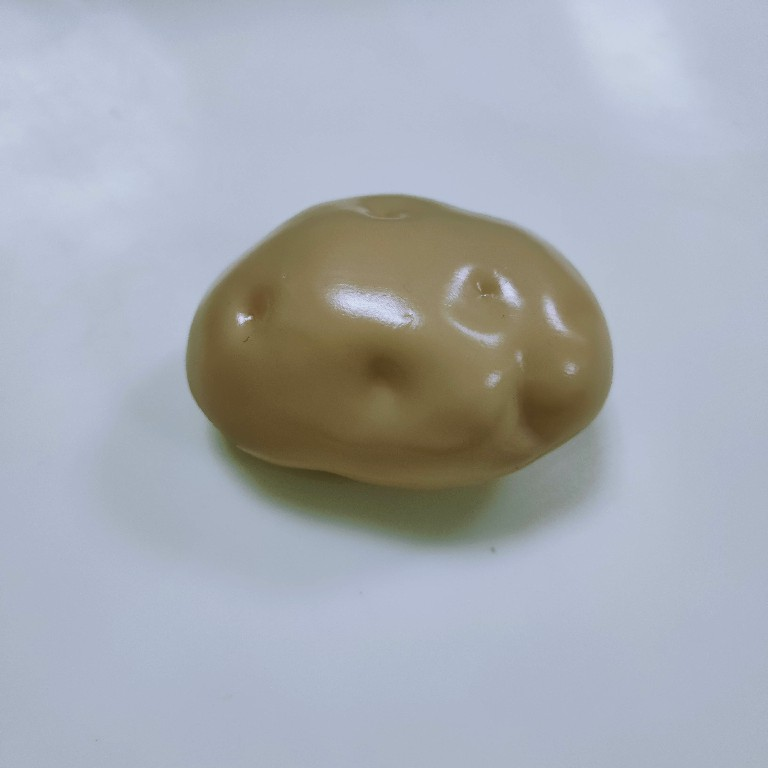fruit_potato: (180, 188, 616, 496)
